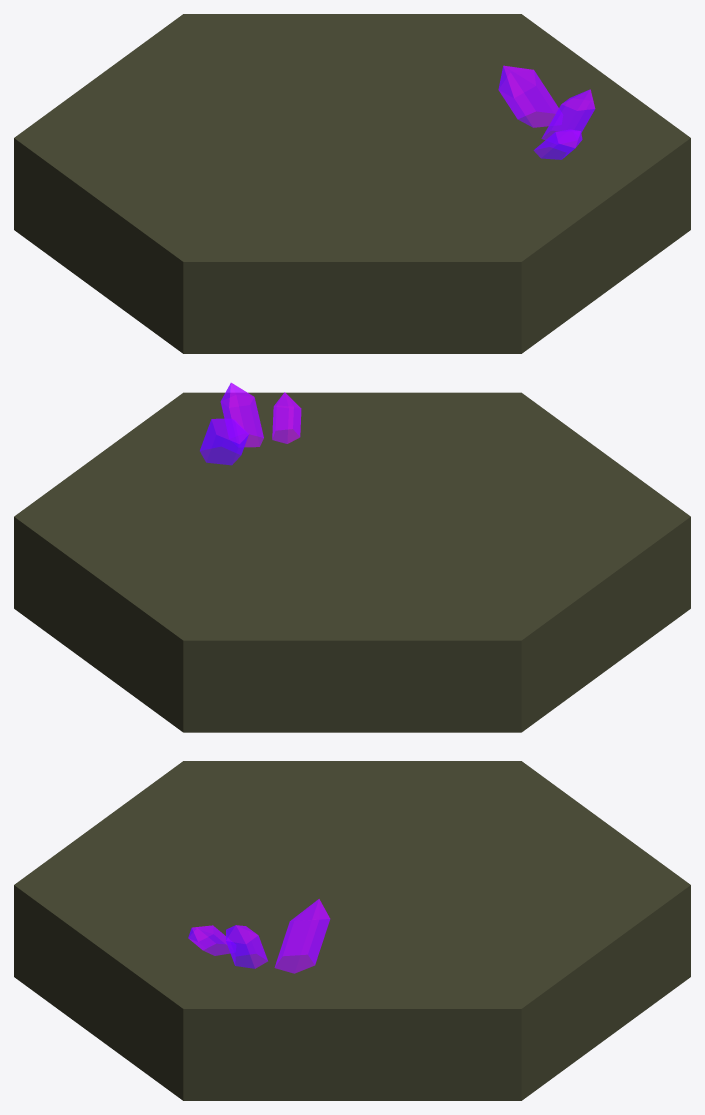
Rendered from GroundUnit(3).fbx.
3 views of the same model, one above another, from view 1: azimuth 30°, elevation 25°; view 2: azimuth 150°, elevation 25°; view 3: azimuth 270°, elevation 25° (orthographic).
Visible parts, largest first — view 1: GroundUnit1.2; view 2: GroundUnit1.2; view 3: GroundUnit1.2.
Boxes of the visible parts, bbox=[...] form: GroundUnit1.2: bbox=[14, 14, 690, 353]; GroundUnit1.2: bbox=[14, 382, 690, 732]; GroundUnit1.2: bbox=[14, 761, 690, 1100].
Size of the model in its own units: 173 by 46.89 by 200.
